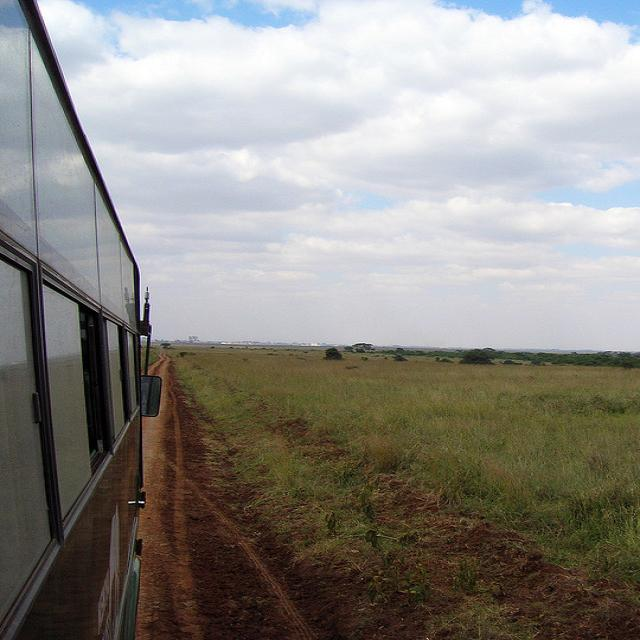Vehicle: (0, 0, 163, 640)
